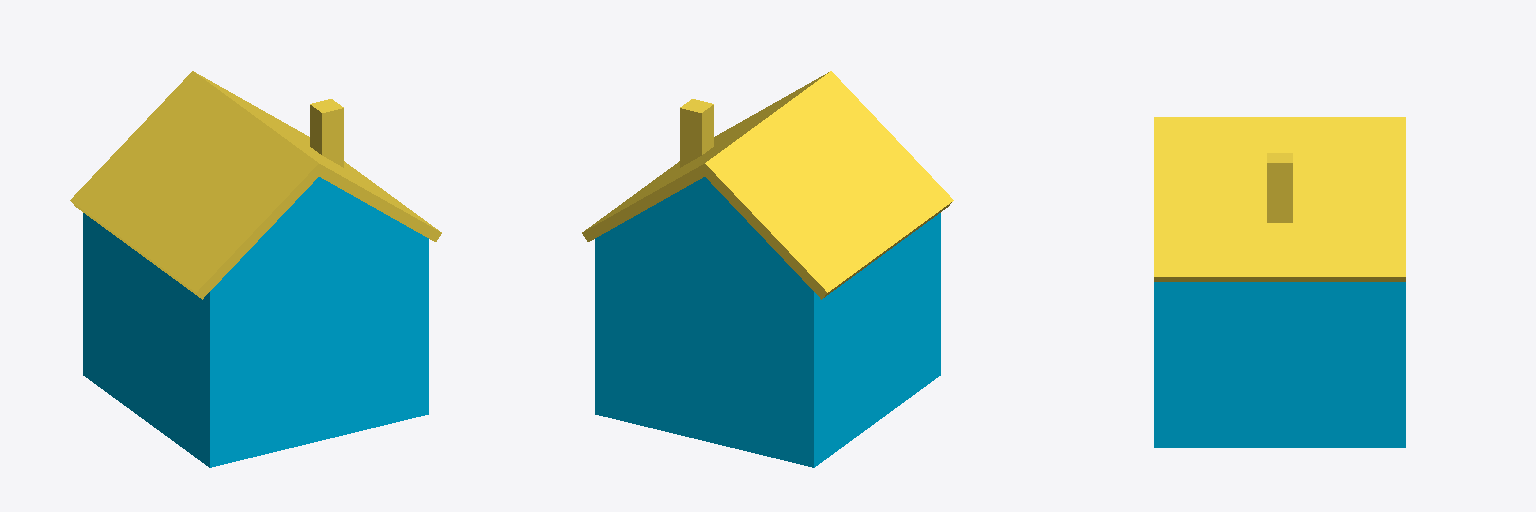
File: house3.obj
3 renders of one model, left to right at view 1: azimuth 30°, elevation 25°; view 2: azimuth 150°, elevation 25°; view 3: azimuth 270°, elevation 25°, orthographic.
Visible parts, largest first — view 1: Cube, Cube.1, Cube.2; view 2: Cube, Cube.1, Cube.2; view 3: Cube, Cube.1, Cube.2.
Boxes of the visible parts, box(x1,y1,x2,y2) form: Cube: box(83, 213, 428, 467); Cube.1: box(70, 71, 441, 299); Cube.2: box(310, 99, 343, 167); Cube: box(595, 213, 940, 467); Cube.1: box(582, 71, 953, 299); Cube.2: box(680, 99, 713, 167); Cube: box(1154, 282, 1405, 447); Cube.1: box(1154, 117, 1405, 281); Cube.2: box(1267, 153, 1292, 222).
Size of the model in its own units: 22.47 by 24.26 by 20.